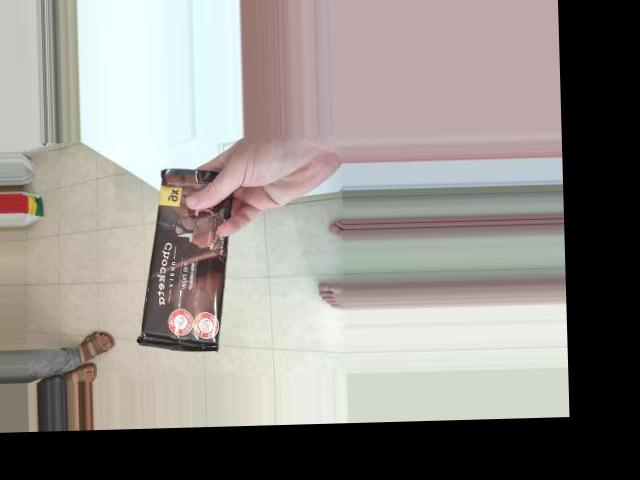chocolate: (132, 161, 242, 353)
